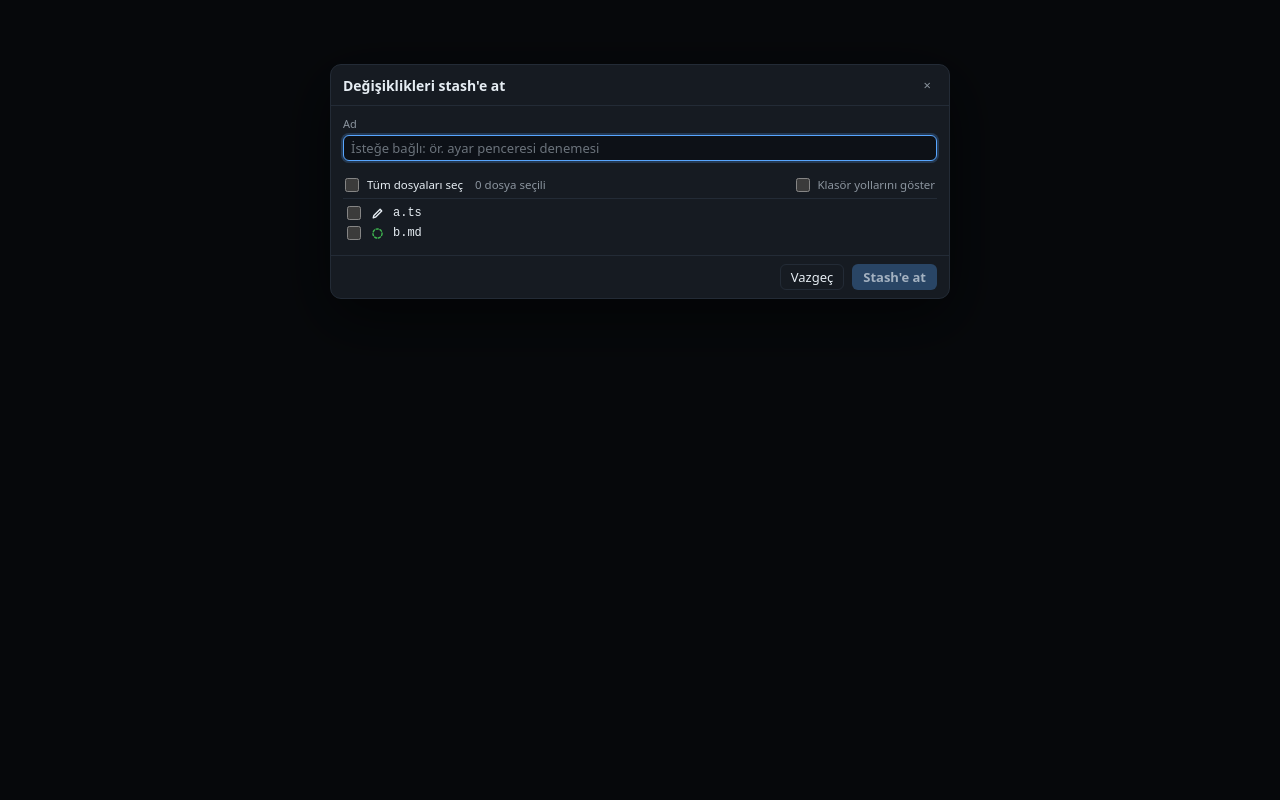
Test: toplu kutu › hiçbiri seçili değilken basınca hepsi seçiliyor
Click the checkbox labelled "Tüm dosyaları seç" at (352, 184), box [345, 178, 359, 192]
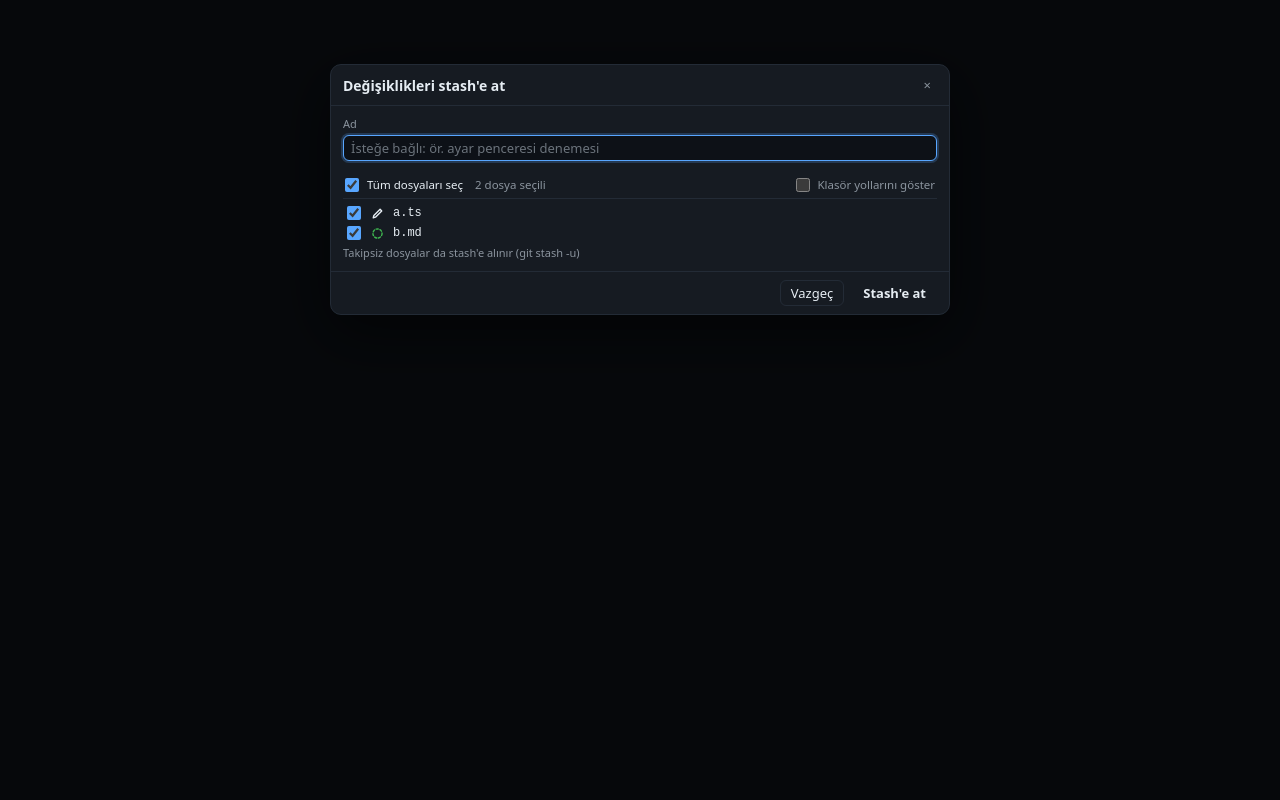
Expected: the button "Stash'e at" is enabled, [852, 280, 937, 306]
